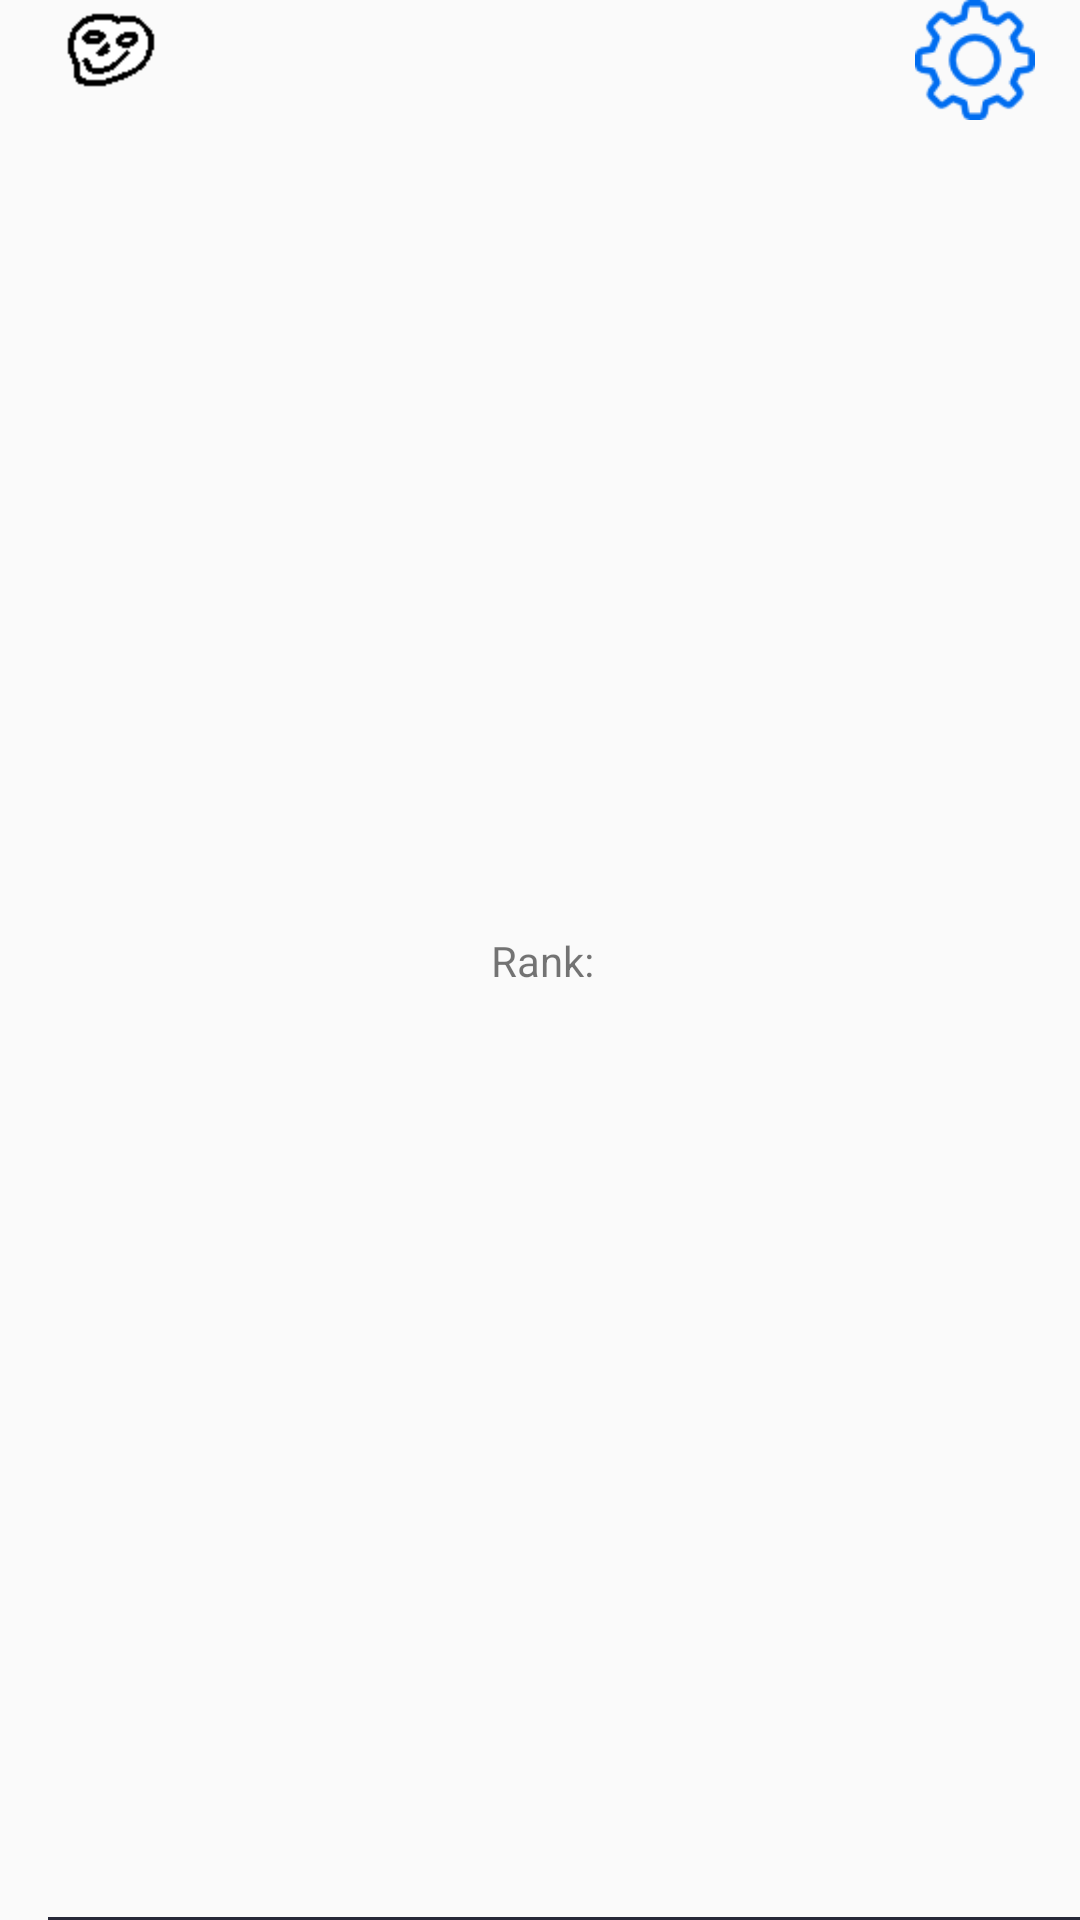

Where icons sit on this 1080*1920 app screen, as (x1, y1, x2, y2):
settings: (915, 0, 1035, 120)
